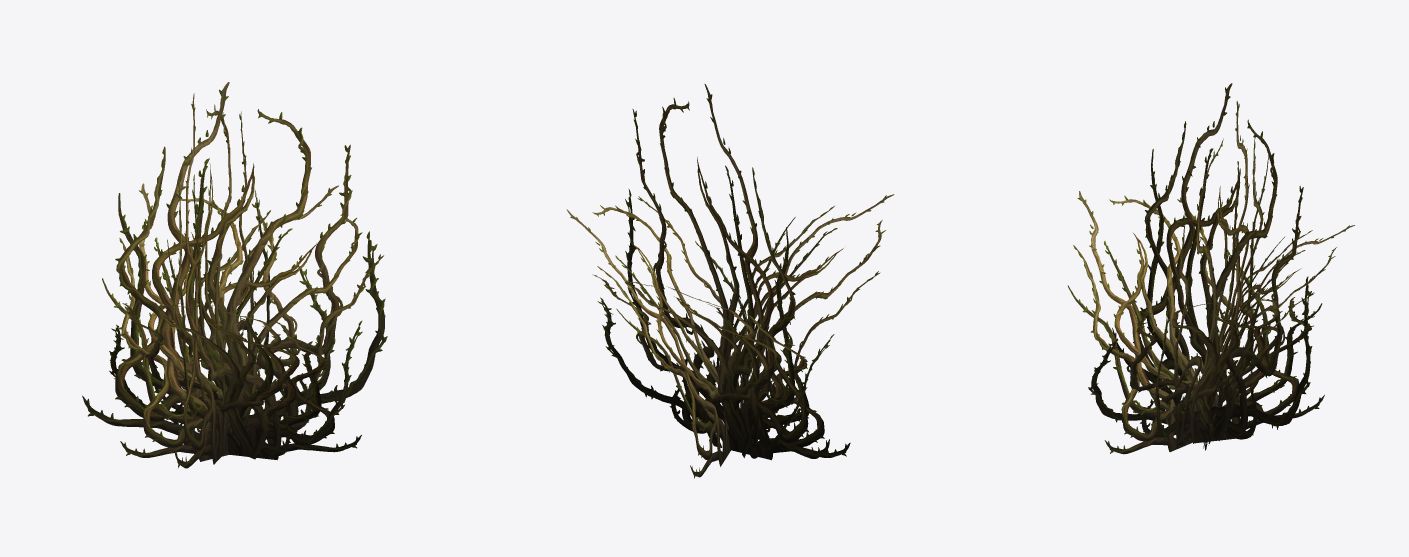
Rendered from PlantRoots.obj.
3 renders of one model, left to right at view 1: azimuth 30°, elevation 25°; view 2: azimuth 150°, elevation 25°; view 3: azimuth 270°, elevation 25°, orthographic. The views are drawn at different scales.
Visible parts, largest first — view 1: Mesh; view 2: Mesh; view 3: Mesh.
Boxes of the visible parts, x1,y1,x2,y2 form: Mesh: (82,82,387,468); Mesh: (566,84,894,478); Mesh: (1067,83,1354,454).
Size of the model in its own units: 2.2 by 2.22 by 2.15.
